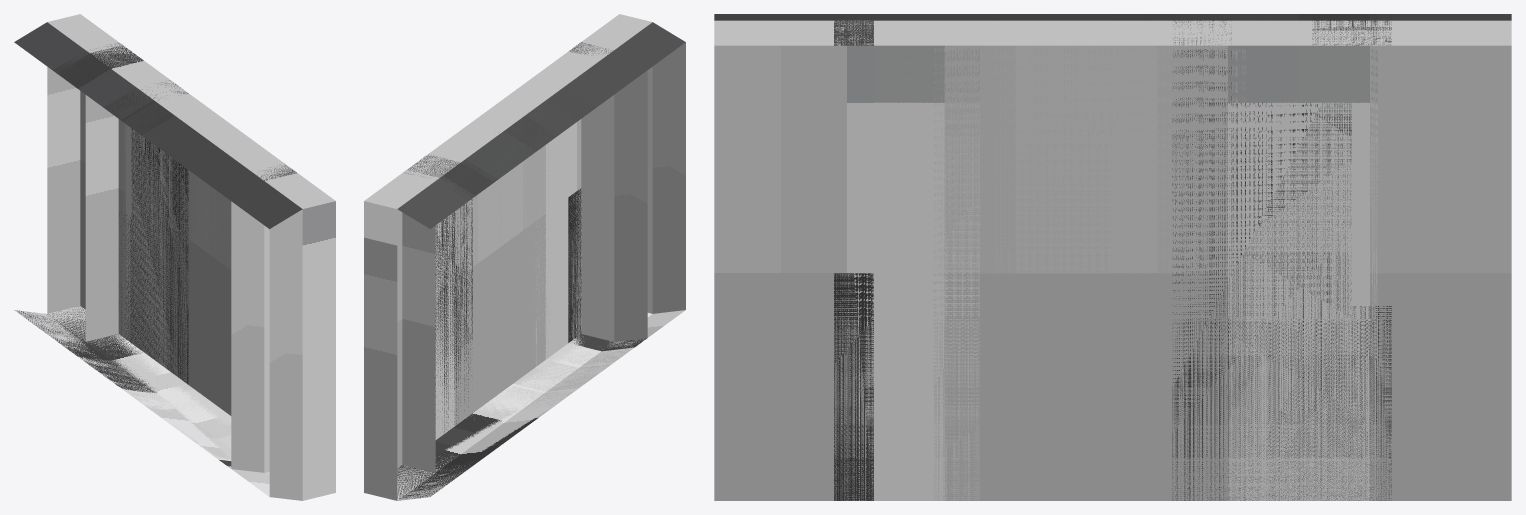
File: fluorescent_lamp.obj
3 views of the same model, side by side, from view 1: azimuth 30°, elevation 25°; view 2: azimuth 150°, elevation 25°; view 3: azimuth 270°, elevation 25° (orthographic). The views are drawn at different scales.
Visible parts, largest first — view 1: FluoroMid, FluoroCap, FluoroSingle; view 2: FluoroCap, FluoroMid, FluoroSingle; view 3: FluoroCap, FluoroMid, FluoroSingle.
Part boxes in pixels (left/top/right/bottom): FluoroMid: left=15, top=45, right=335, bottom=500; FluoroCap: left=14, top=14, right=296, bottom=472; FluoroSingle: left=53, top=43, right=246, bottom=460; FluoroCap: left=364, top=42, right=647, bottom=500; FluoroMid: left=364, top=14, right=685, bottom=499; FluoroSingle: left=402, top=54, right=633, bottom=472; FluoroCap: left=834, top=14, right=1511, bottom=500; FluoroMid: left=714, top=14, right=1511, bottom=500; FluoroSingle: left=874, top=14, right=1391, bottom=500.
Bounding box in the file's own units: 0.15 × 0.63 × 1.
